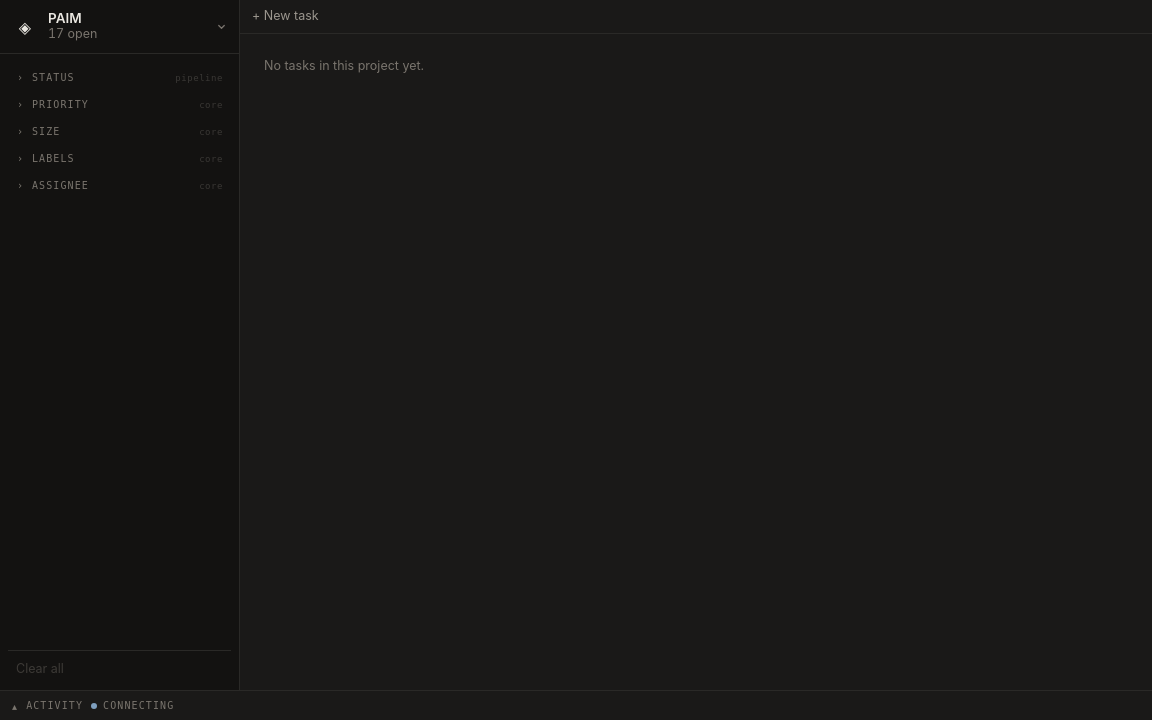
Test: workspace switcher › leaves the workspace for the grid through All projects
Click the button "◈ PAIM 17 open": (120, 27) x1=0 y1=0 x2=239 y2=54
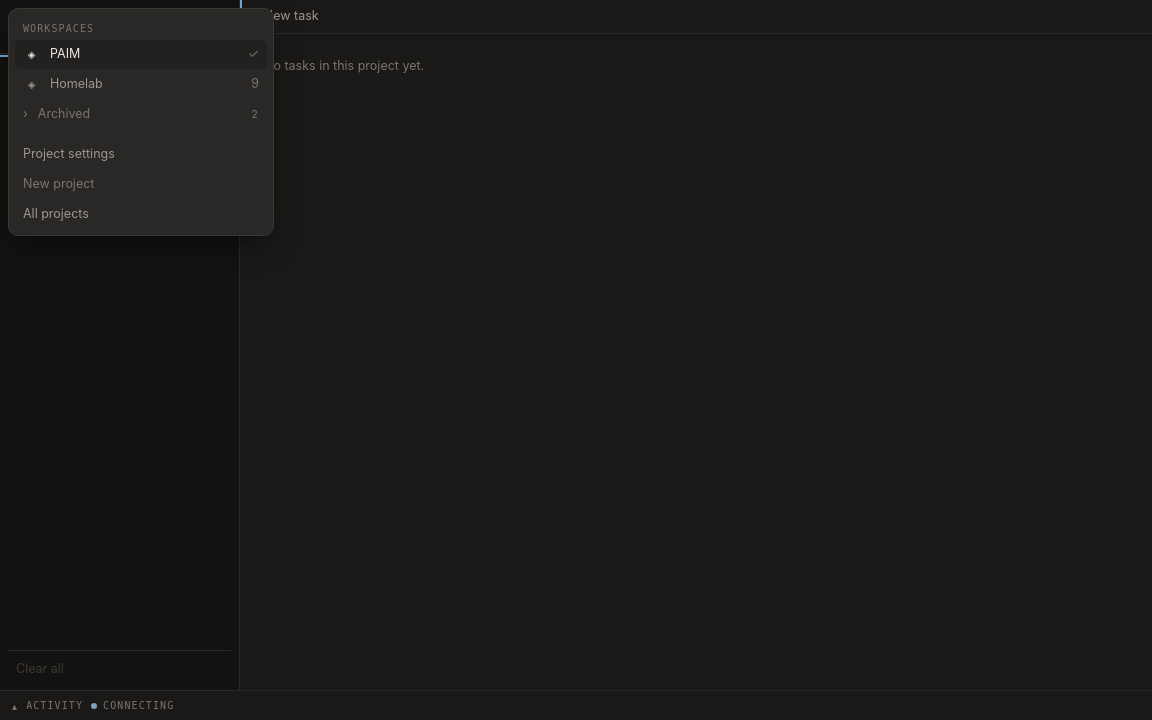
Click the menu item "All projects": (141, 214) x1=15 y1=200 x2=267 y2=228
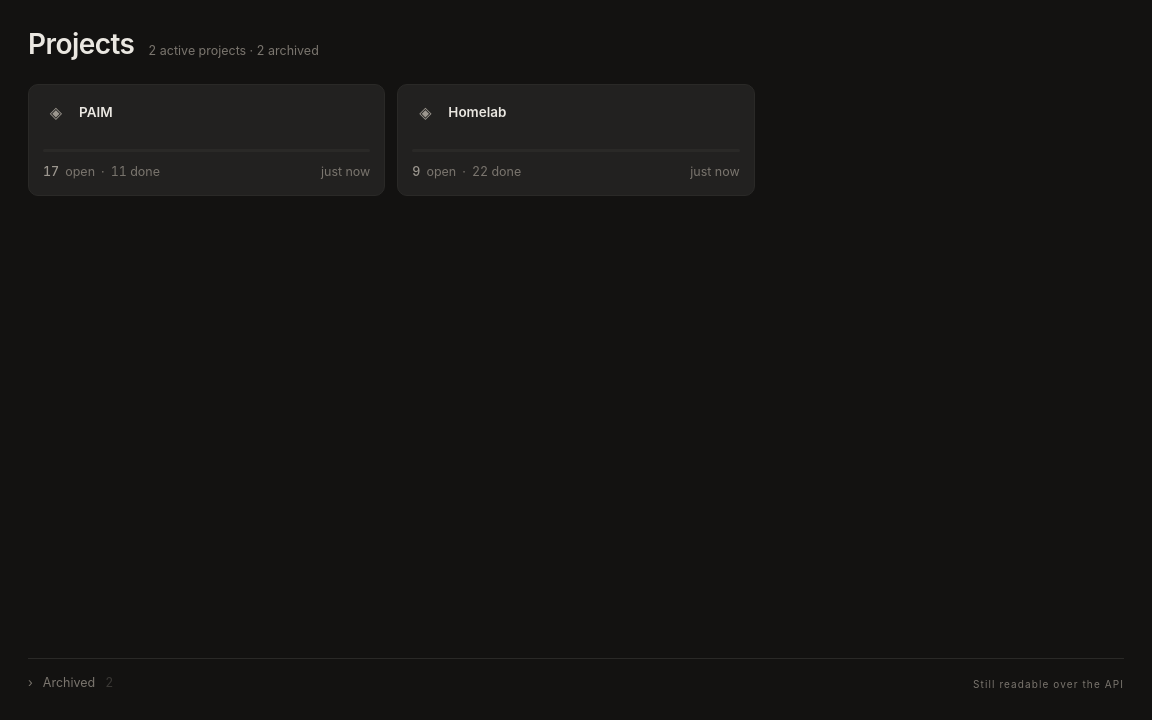
Expected: the heading "Projects" is shown, x1=28 y1=28 x2=134 y2=60
